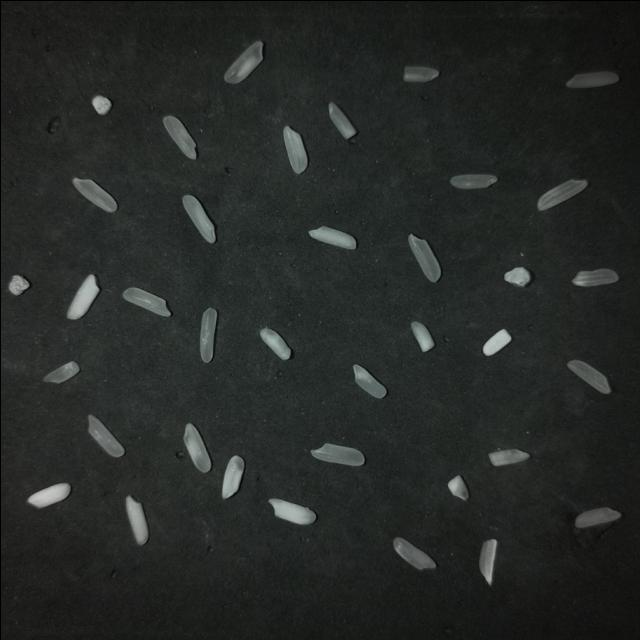broken: (352, 364, 386, 397), (328, 102, 355, 138), (479, 538, 496, 584), (43, 361, 78, 382), (488, 448, 529, 465), (403, 66, 438, 81), (91, 94, 111, 114)
chalky: (182, 196, 214, 242), (66, 274, 98, 318), (268, 498, 315, 523), (282, 126, 306, 173), (125, 495, 148, 544), (27, 482, 70, 507), (308, 226, 355, 248), (259, 327, 290, 359), (221, 455, 243, 498), (482, 328, 510, 355), (411, 321, 433, 351), (447, 474, 468, 499)
foreign: (503, 266, 530, 286), (7, 274, 29, 294)
whole: (536, 178, 586, 210), (224, 41, 262, 83), (87, 414, 124, 456), (408, 234, 440, 281), (72, 177, 116, 211), (162, 115, 195, 158), (567, 359, 610, 392), (392, 537, 435, 569), (122, 287, 170, 315), (184, 423, 210, 471), (310, 442, 363, 465), (574, 506, 620, 527), (199, 307, 216, 361), (565, 71, 618, 87), (571, 267, 618, 285), (449, 173, 496, 188)
